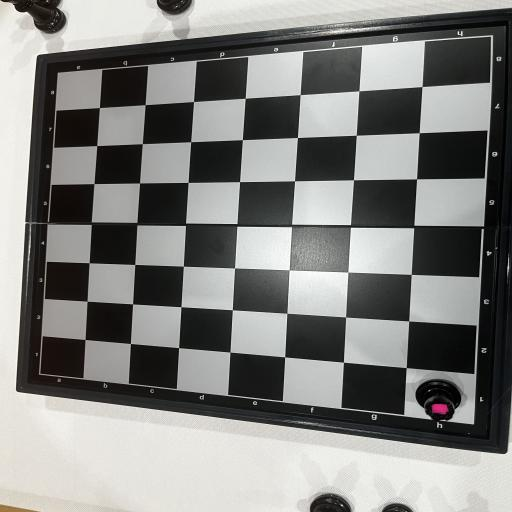Black rook: (415, 379, 461, 420)
